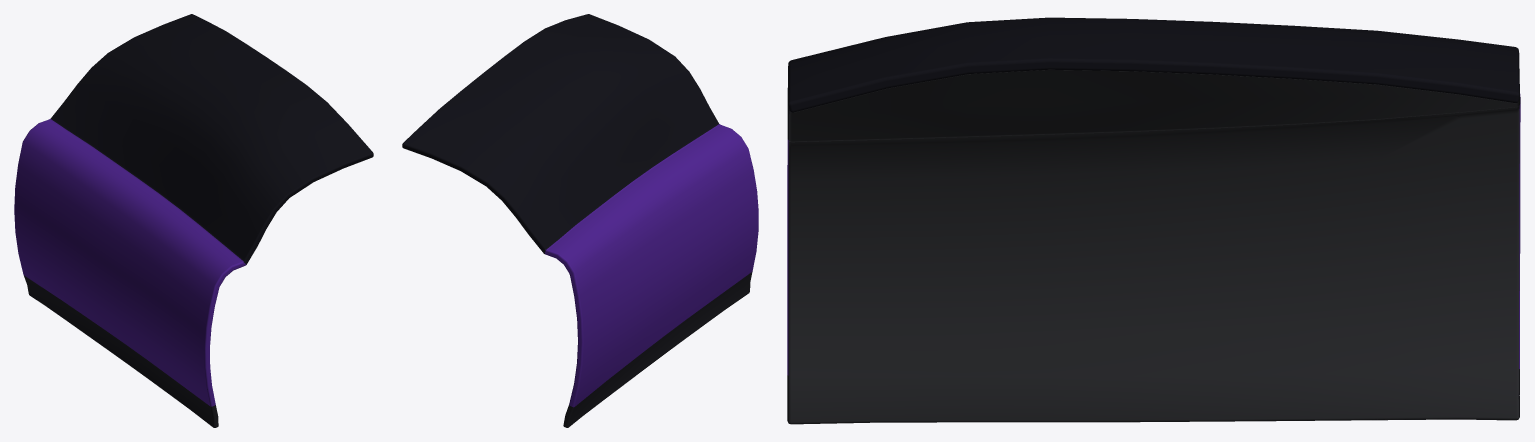
File: door_right.glb
3 views of the same model, side by side, from view 1: azimuth 30°, elevation 25°; view 2: azimuth 150°, elevation 25°; view 3: azimuth 270°, elevation 25° (orthographic). The views are drawn at different scales.
Parts seen in each view (by area): view 1: door_right; view 2: door_right; view 3: door_right.
Part boxes in pixels (x1,y1,x2,y2): door_right: [14, 14, 373, 427]; door_right: [402, 14, 758, 427]; door_right: [787, 17, 1520, 424].
Bounding box in the file's own units: 0.6556 × 0.9022 × 1.16.
